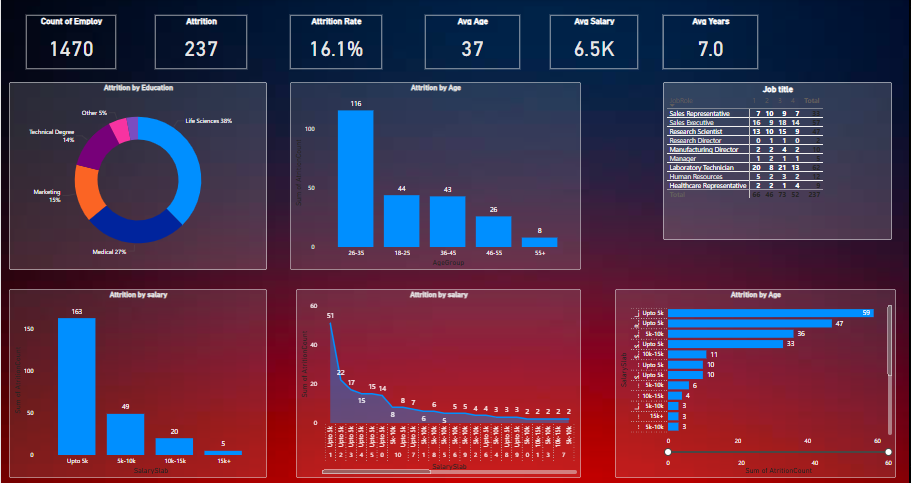

This screenshot's page, from the dashboard's own definition file:
{"tool":"powerbi","page":{"name":"Page 1","canvas":[2000,1000],"ordinal":0},"visuals":[{"type":"card","title":"Count of Employ","fields":{"Values":["Count(HR_Analytics.EmpID)"]},"box":[50,30,180,108],"z":0},{"type":"card","title":"Attrition ","fields":{"Values":["Sum(HR_Analytics.AtritionCount)"]},"box":[308,30,184,108],"z":1000},{"type":"card","title":"Attrition Rate","fields":{"Values":["HR_Analytics.AttritionRate"]},"box":[578,30,184,108],"z":2000},{"type":"card","title":"Avg Age","fields":{"Values":["Avg(HR_Analytics.Age)"]},"box":[848,30,190,108],"z":3000},{"type":"card","title":"Avg Salary","fields":{"Values":["Avg(HR_Analytics.MonthlyIncome)"]},"box":[1098,30,176,108],"z":4000},{"type":"card","title":"Avg Years","fields":{"Values":["Avg(HR_Analytics.YearsAtCompany)"]},"box":[1324,30,190,108],"z":5000},{"type":"donutChart","title":"Attrition by Education","fields":{"Category":["HR_Analytics.EducationField"],"Y":["Sum(HR_Analytics.AtritionCount)"]},"box":[16,164,516,376],"z":6000},{"type":"columnChart","title":"Attrition by Age","fields":{"Category":["HR_Analytics.AgeGroup"],"Y":["Sum(HR_Analytics.AtritionCount)"]},"box":[578,164,582,376],"z":7000},{"type":"pivotTable","title":"Job title","fields":{"Rows":["HR_Analytics.JobRole"],"Columns":["HR_Analytics.JobSatisfaction"],"Values":["Sum(HR_Analytics.AtritionCount)"]},"box":[1324,164,458,316],"z":8000},{"type":"columnChart","title":"Attrition by salary ","fields":{"Category":["HR_Analytics.SalarySlab"],"Y":["Sum(HR_Analytics.AtritionCount)"]},"box":[16,578,516,378],"z":9000},{"type":"barChart","title":"Attrition by Age","fields":{"Category":["HR_Analytics.JobRole","HR_Analytics.SalarySlab"],"Y":["Sum(HR_Analytics.AtritionCount)"]},"box":[1228,578,562,378],"z":10000},{"type":"areaChart","title":"Attrition by salary ","fields":{"Category":["HR_Analytics.YearsAtCompany","HR_Analytics.SalarySlab"],"Y":["Sum(HR_Analytics.AtritionCount)"]},"box":[590,578,570,378],"z":11000}]}

Visuals, with their boxes on the page's 2000x1000 design canvas (x1, y1, x2, y2). These are canvas units, not pixel positions in the 911x483 screenshot, which may show the page scaled, cropped or inside an application window:
"Count of Employ" card: pyautogui.locateOnScreen(50, 30, 230, 138)
"Attrition " card: pyautogui.locateOnScreen(308, 30, 492, 138)
"Attrition Rate" card: pyautogui.locateOnScreen(578, 30, 762, 138)
"Avg Age" card: pyautogui.locateOnScreen(848, 30, 1038, 138)
"Avg Salary" card: pyautogui.locateOnScreen(1098, 30, 1274, 138)
"Avg Years" card: pyautogui.locateOnScreen(1324, 30, 1514, 138)
"Attrition by Education" donutChart: pyautogui.locateOnScreen(16, 164, 532, 540)
"Attrition by Age" columnChart: pyautogui.locateOnScreen(578, 164, 1160, 540)
"Job title" pivotTable: pyautogui.locateOnScreen(1324, 164, 1782, 480)
"Attrition by salary " columnChart: pyautogui.locateOnScreen(16, 578, 532, 956)
"Attrition by Age" barChart: pyautogui.locateOnScreen(1228, 578, 1790, 956)
"Attrition by salary " areaChart: pyautogui.locateOnScreen(590, 578, 1160, 956)
